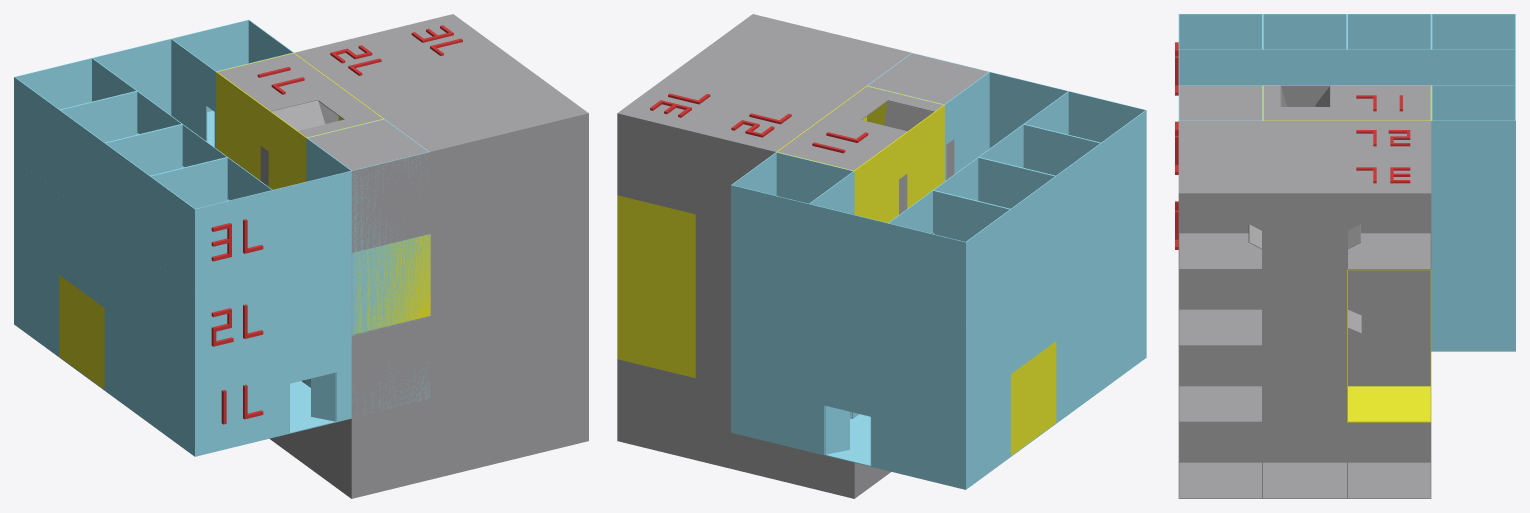
File: 第七组.glb
3 views of the same model, side by side, from view 1: azimuth 30°, elevation 25°; view 2: azimuth 150°, elevation 25°; view 3: azimuth 270°, elevation 25° (orthographic). The views are drawn at different scales.
Bounding box in the file's own units: 0.0252 × 0.0201 × 0.0202.
